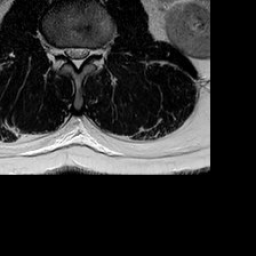CCS_normal: (73, 37, 82, 76)
LFS_stenosis: (91, 36, 99, 64)
LLS_normal: (82, 36, 91, 68)
RFS_stenosis: (56, 37, 64, 62)
RLS_normal: (64, 38, 73, 67)
